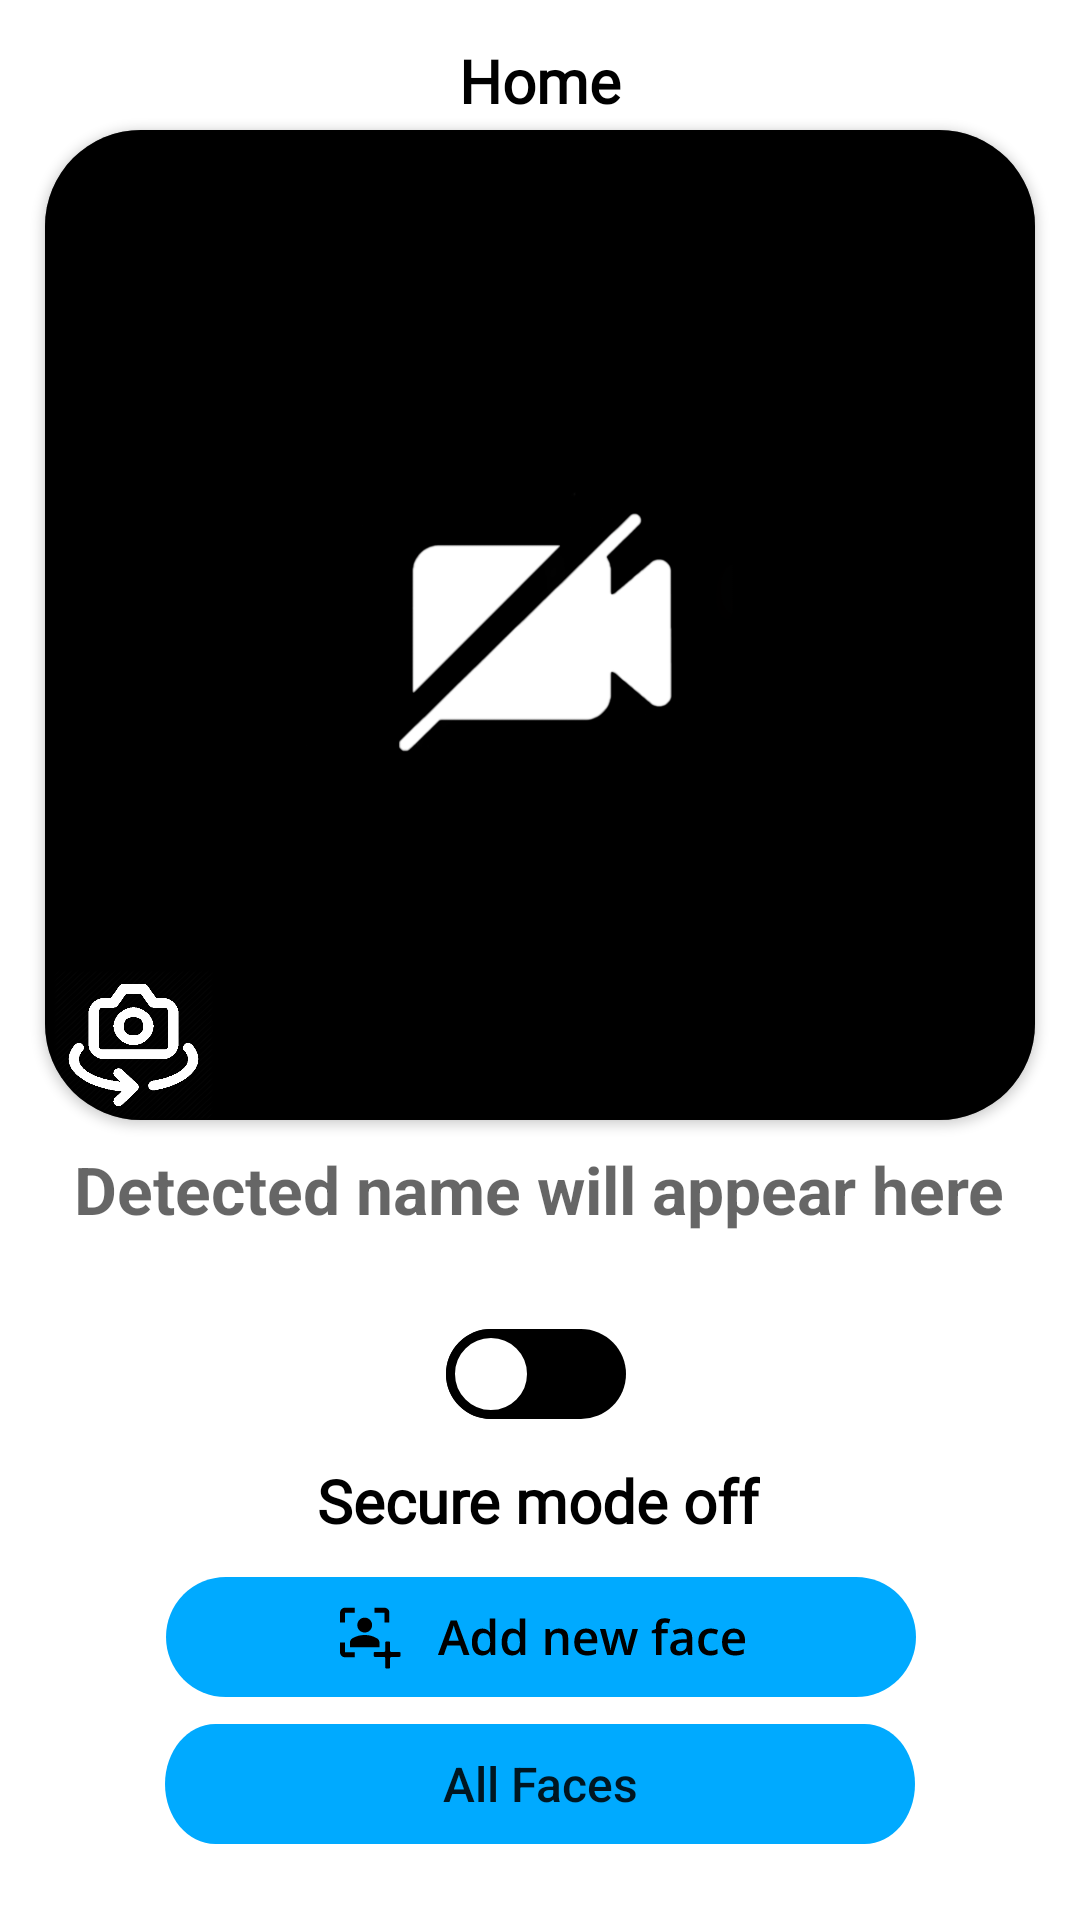

Icons on this 1080 x 1920 Android screen, each with its box as (x1, y1, x2, y2):
cam: (68, 984, 199, 1106)
